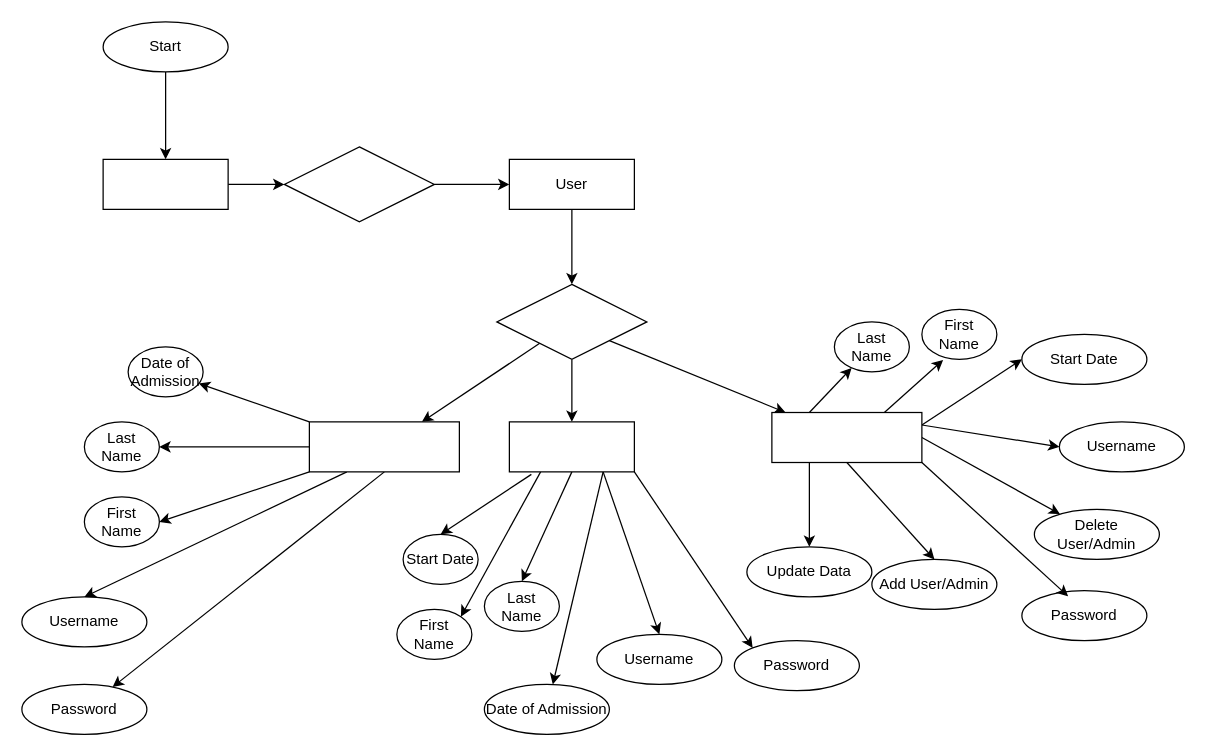
Some shapes in this 1206 by 756 pixel diagram are drawn without their labels. The centre of each missing label's shape, as x and y in pixels:
Admin: the point at 846,436
Login: the point at 165,183
Login Sucess: the point at 358,184
Role can be: the point at 571,321
Student: the point at 383,446
StudentAdmin: the point at 571,446
